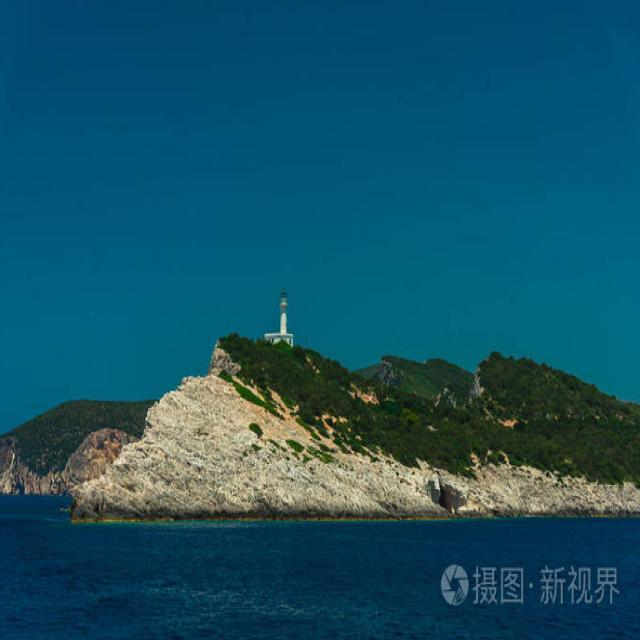reef: (74, 457, 402, 529)
